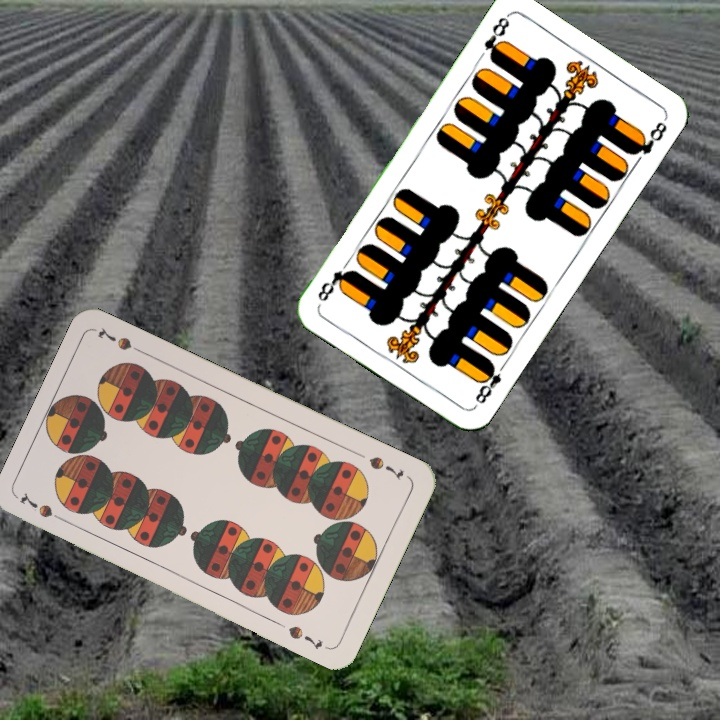E8: (471, 358, 509, 407), (480, 12, 512, 65)
S7: (16, 489, 70, 526), (365, 452, 406, 482)
